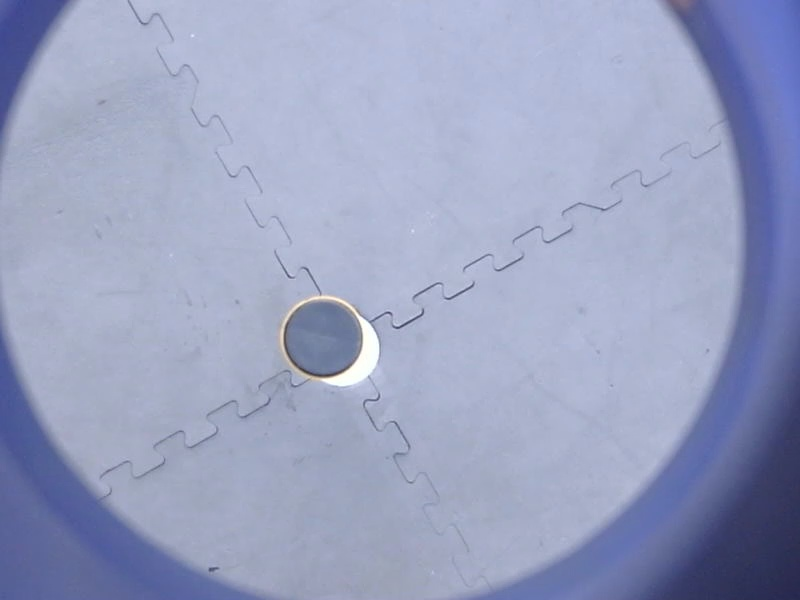tip: (273, 290, 370, 385)
